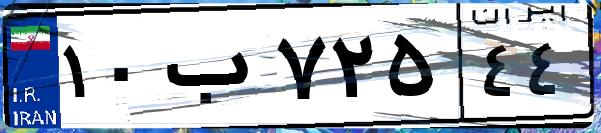0: (110, 28, 158, 98)
1: (57, 26, 110, 100)
2: (330, 28, 385, 110)
4: (475, 38, 525, 113), (525, 38, 570, 115)
5: (385, 28, 445, 110)
7: (270, 28, 330, 110)
ب: (158, 20, 270, 120)
